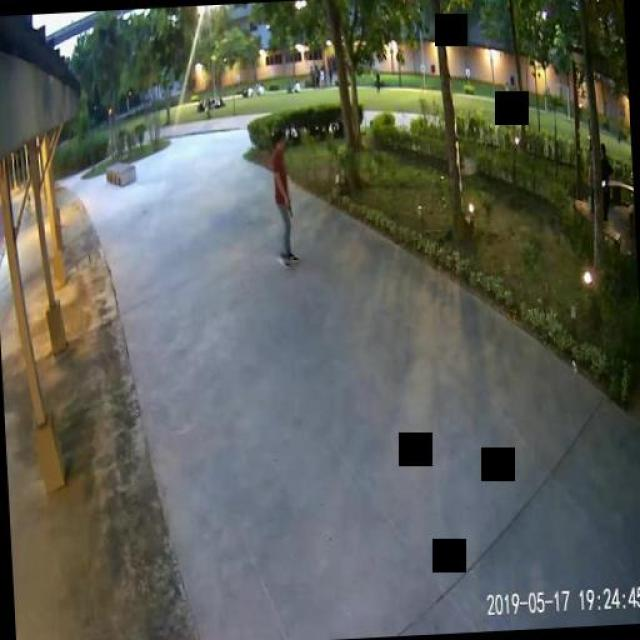gun: (284, 198, 291, 216)
